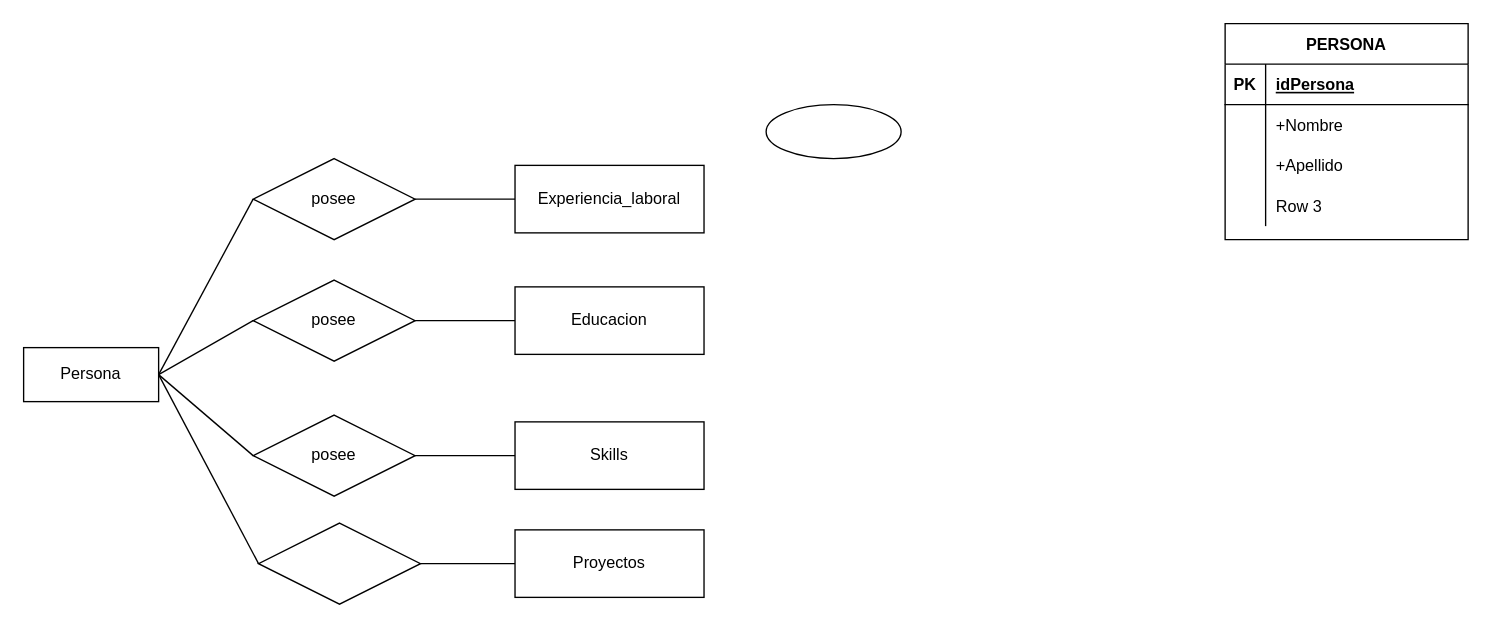
Some shapes in this 1492 by 628 pixel diagram are drawn without their labels. The box of each missing label's shape, as (x1, y1, x2, y2) in pixels:
cargo: (765, 103, 901, 159)
trabaja en: (257, 522, 421, 604)
